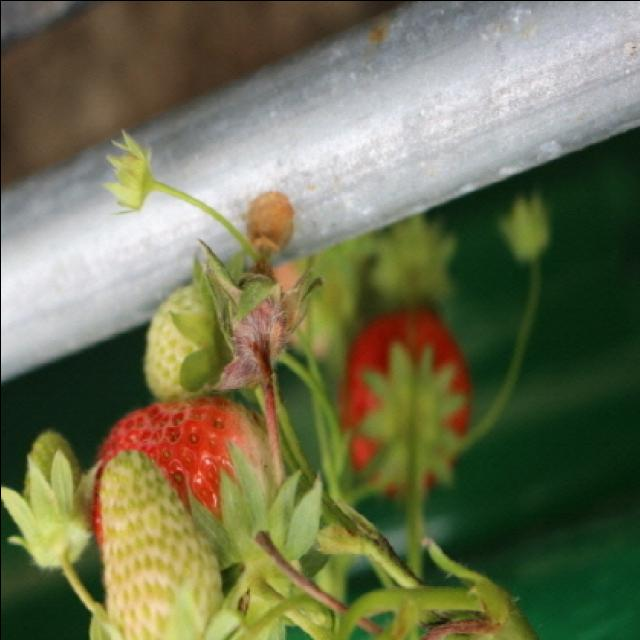Gray Mold: (197, 237, 307, 410)
